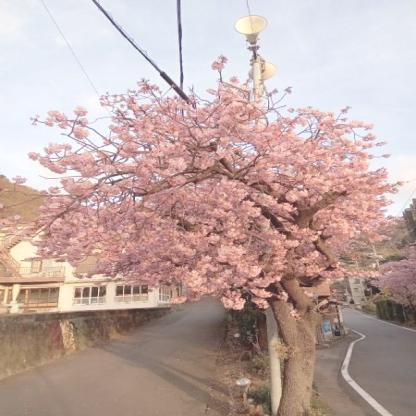KawazuSakura: (16, 50, 406, 315), (249, 60, 277, 82)
